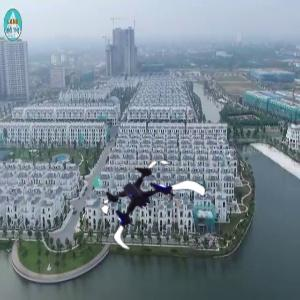drone: (93, 153, 196, 256)
